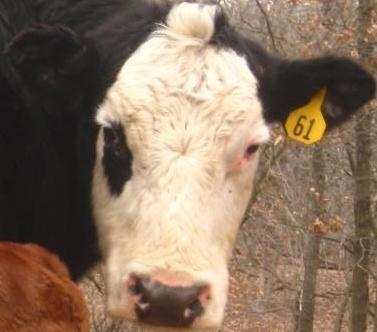muzzles: (100, 249, 235, 332)
